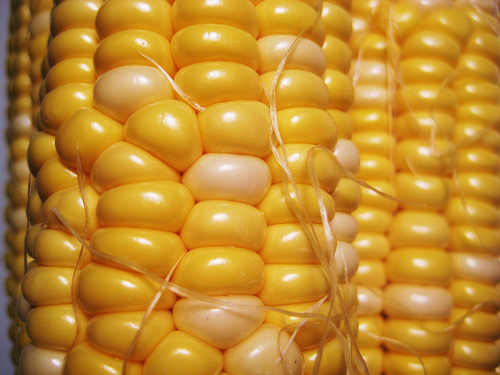corn: (21, 0, 367, 374), (352, 1, 499, 374), (4, 0, 37, 373)
